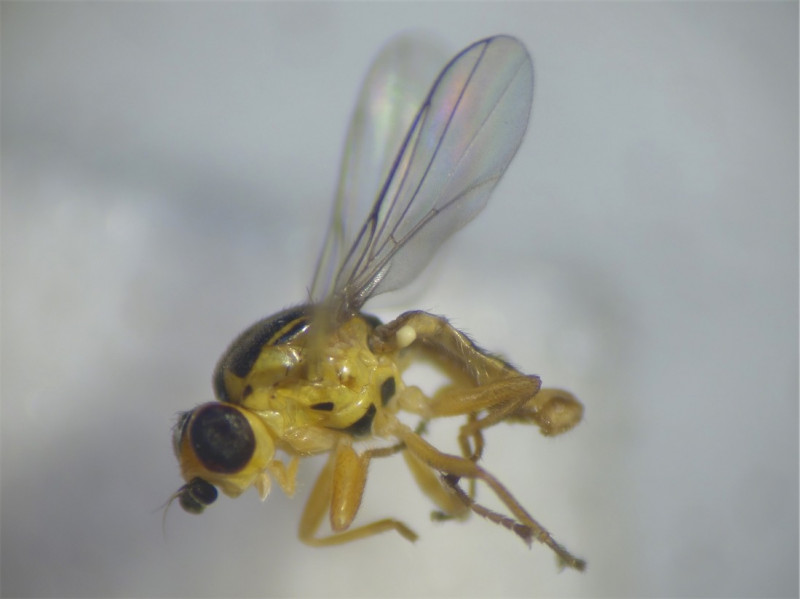Chloropidae: (151, 23, 600, 574)
